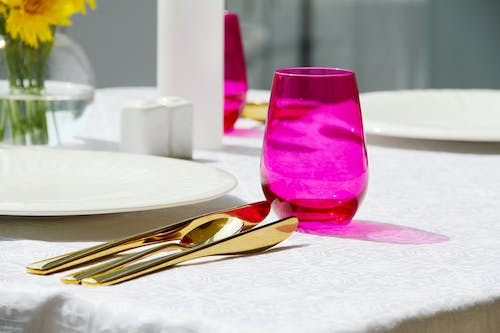knife: (25, 199, 272, 276), (79, 214, 300, 286)
